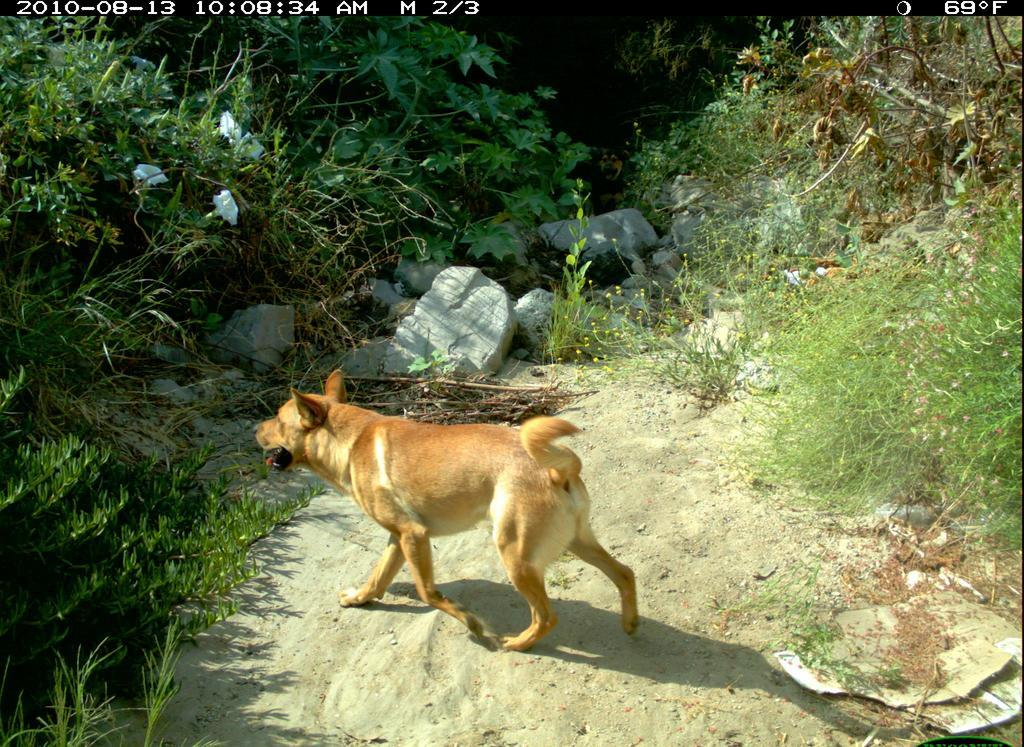dog: (240, 363, 660, 670)
